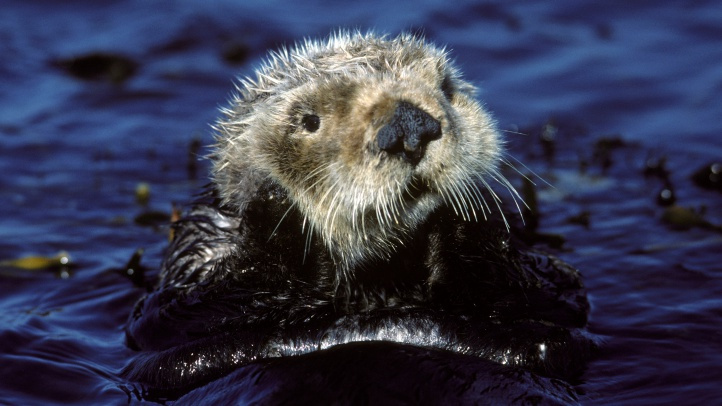otter: (188, 18, 640, 312)
